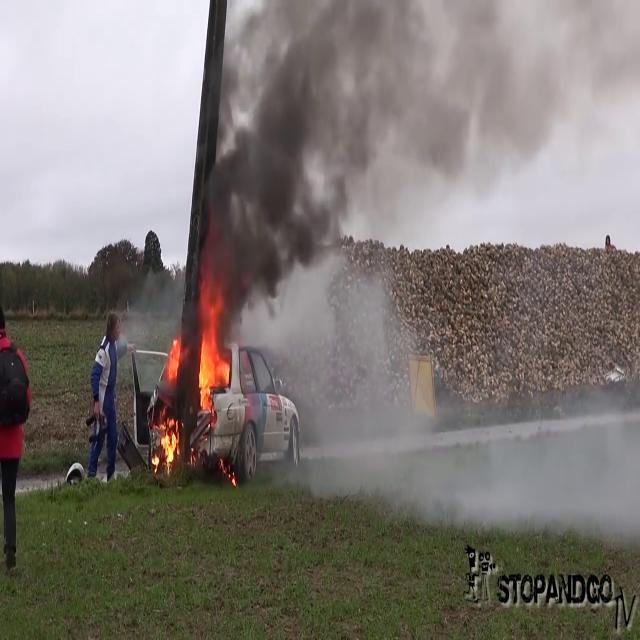Fire: (175, 299, 232, 419), (194, 302, 232, 417), (150, 408, 184, 480)
Smoke: (186, 1, 628, 330), (185, 1, 369, 328)
